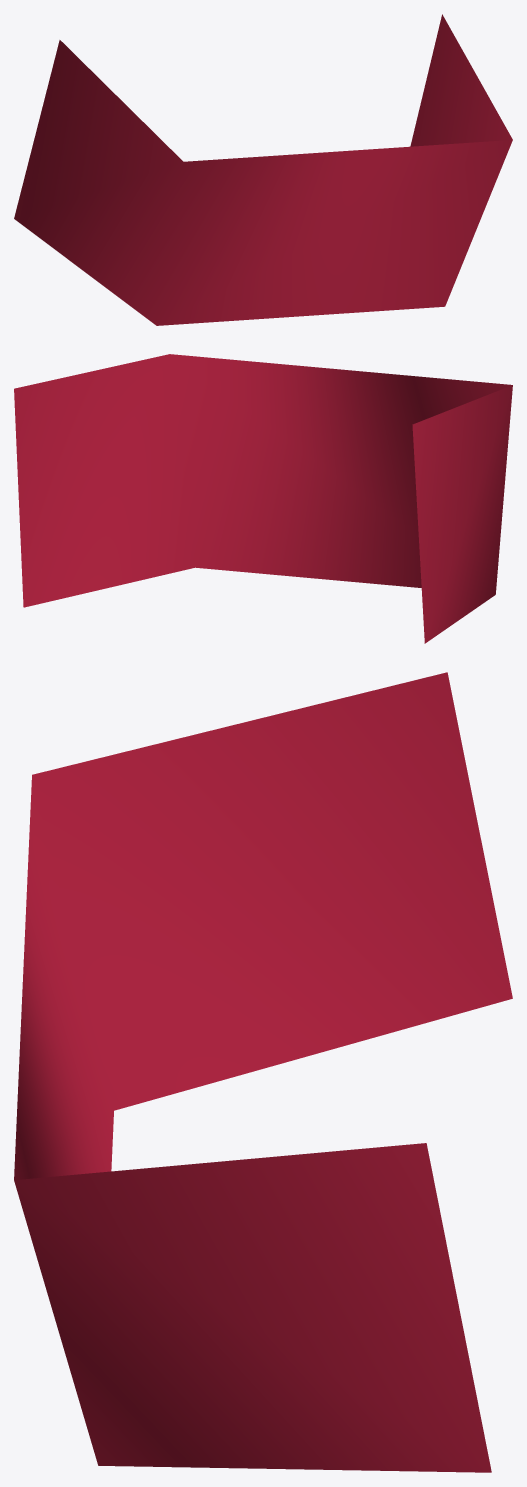
The picture shows the model from 3 angles, top to bottom: view 1: azimuth 30°, elevation 25°; view 2: azimuth 150°, elevation 25°; view 3: azimuth 270°, elevation 25°; orthographic projection. The views are drawn at different scales.
Parts seen in each view (by area): view 1: ef_447; view 2: ef_447; view 3: ef_447.
Part boxes in pixels (x1,y1,x2,y2): ef_447: [14, 14, 512, 325]; ef_447: [14, 354, 512, 643]; ef_447: [14, 672, 512, 1472].
Bounding box in the file's own units: 0.7324 × 0.4695 × 0.4086.
Materials: 1 (1 with a texture image).
